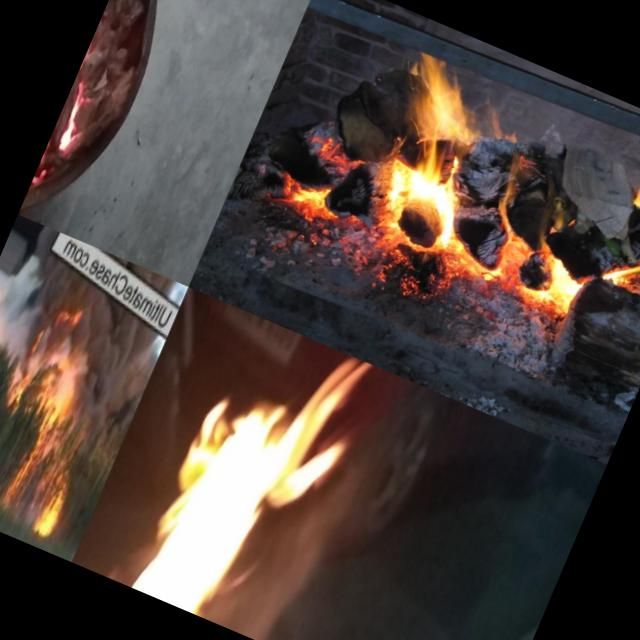fire: (226, 0, 640, 396), (71, 287, 384, 640), (20, 0, 177, 219), (0, 371, 76, 516), (29, 480, 74, 548)
smoke: (0, 271, 147, 400), (102, 331, 166, 442), (58, 384, 117, 446)
